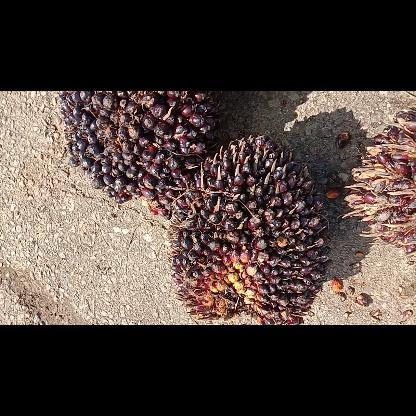TBS mentah: (166, 134, 328, 324), (57, 90, 216, 220), (341, 110, 415, 258)
